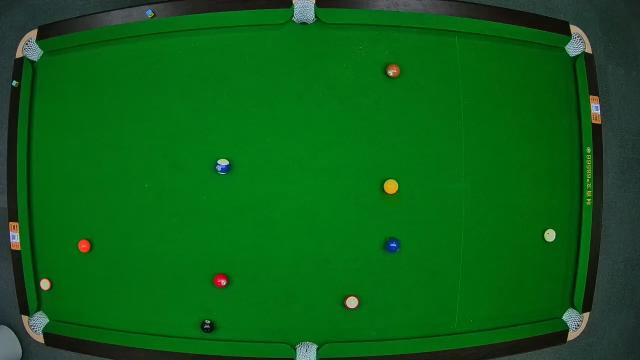bag1: (20, 40, 40, 60)
bag2: (293, 0, 317, 26)
bag3: (565, 34, 587, 56)
bag4: (28, 311, 48, 333)
bag5: (294, 340, 318, 360)
bag6: (562, 309, 584, 331)
ball0: (544, 228, 556, 243)
ball1: (383, 178, 401, 196)
ball10: (215, 158, 231, 176)
ball11: (344, 294, 360, 310)
ball12: (38, 277, 52, 291)
ball2: (384, 237, 402, 253)
ball3: (214, 274, 230, 288)
ball5: (78, 238, 92, 254)
ball7: (386, 64, 402, 78)
ball8: (200, 318, 216, 334)
